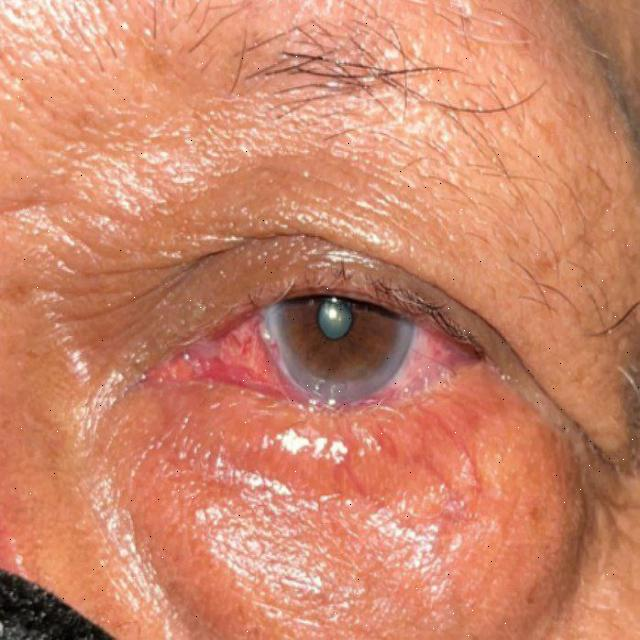Cataract: (267, 245, 409, 397)
